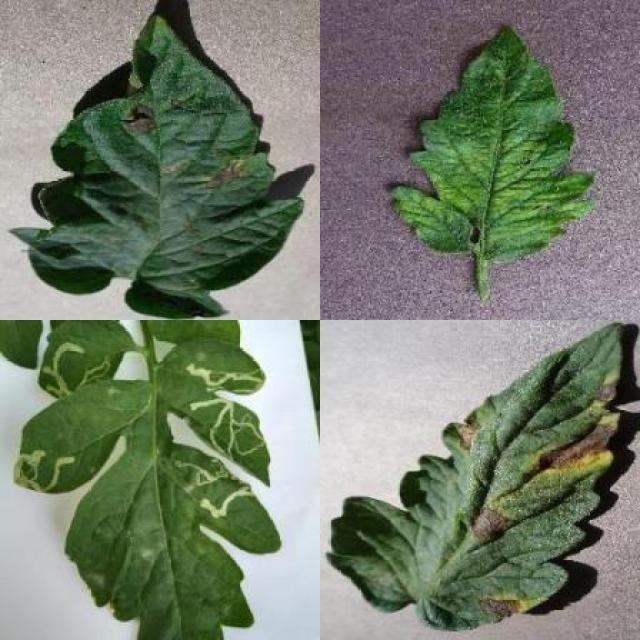Early Blight: (327, 322, 623, 634), (8, 13, 303, 320)
Leaf Miner: (12, 338, 281, 640), (38, 320, 136, 399)
Mosaic Virus: (386, 21, 597, 259)
